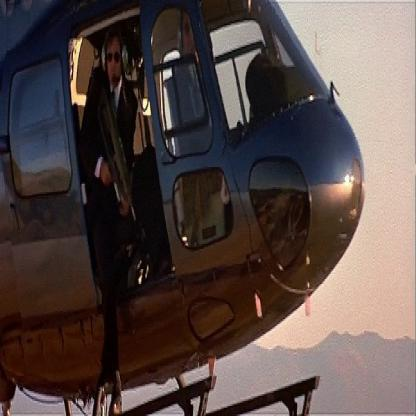Gun: (94, 77, 139, 232)
